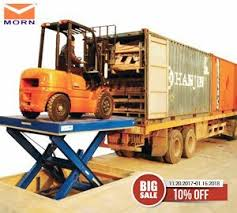Pallet Jack: (17, 19, 120, 122)
Scissor Lift: (1, 112, 137, 200)
